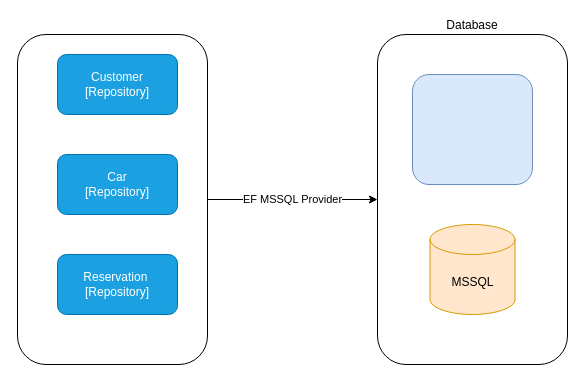
This 585x382 diagram has some shape labels left out. Here are the shapes that lost their labels. From the top down, the box of each, then its label:
(412, 74, 532, 184): DB-Provider
(16, 34, 208, 364): Repositories
